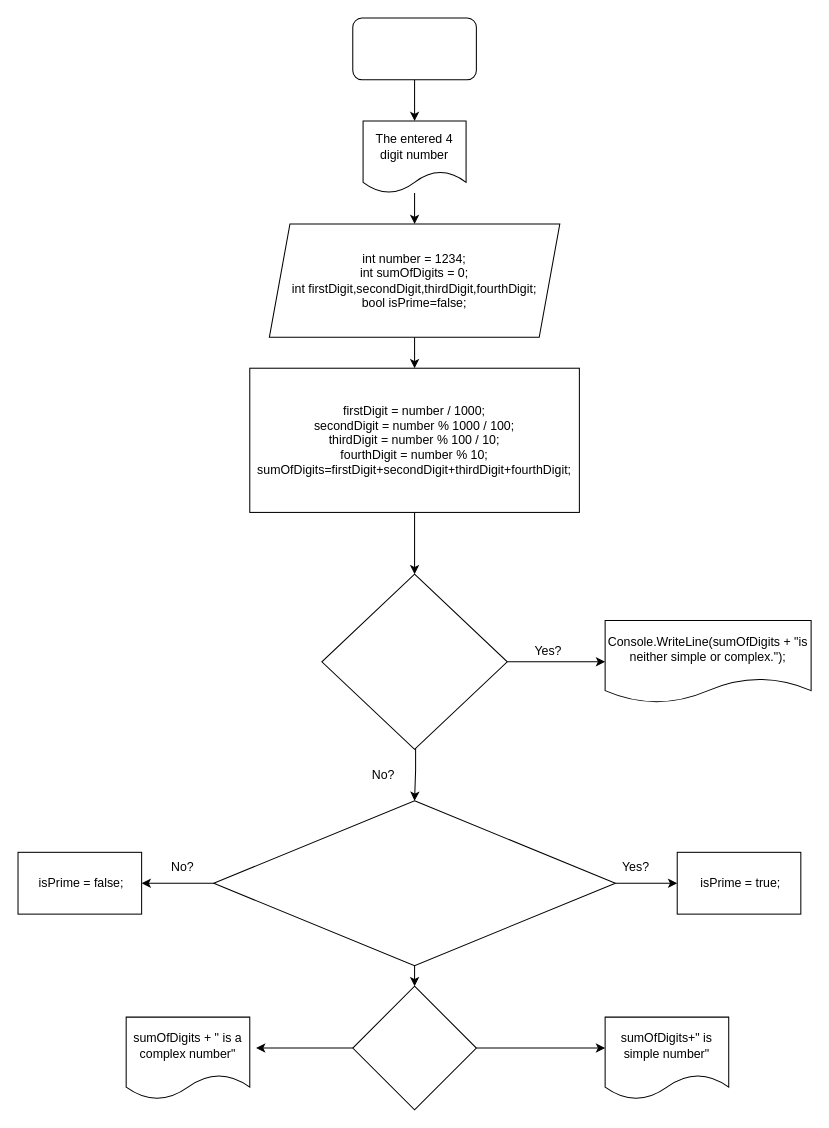
Image size: 829x1128. Some labels were removed from this diagram. The shapes that lost their labels are listed below. From the top down, each one's centre as x and y in pixels, then its label:
At pixel 414 48: "Start".
At pixel 414 661: "if (sumOfDigits==0 || sumOfDigits==1)".
At pixel 414 883: "for (int i = 2; i <= Math.Sqrt(sumOfDigits); i++) { if (sumOfDigits % i == 0)".
At pixel 414 1047: "if (isPrime)".
